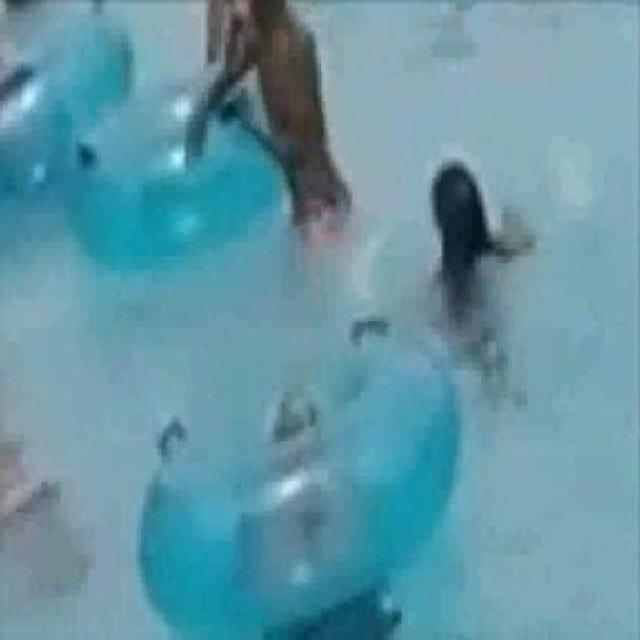drowning: (417, 157, 532, 377)
